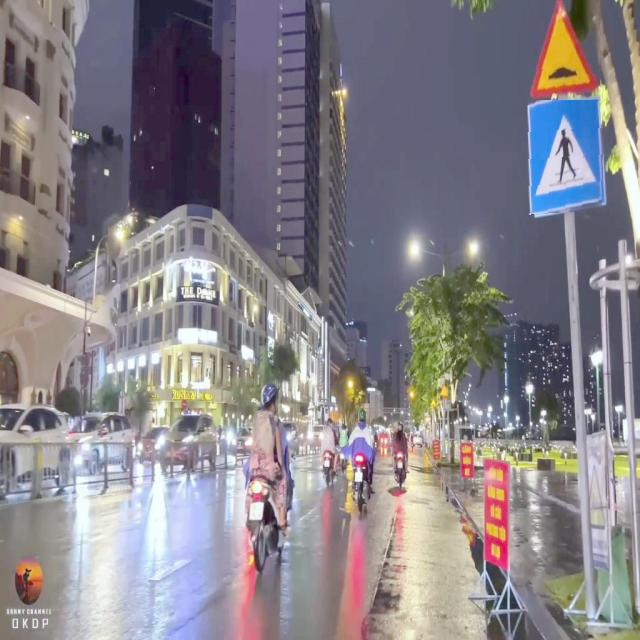duong_co_song_map_mo_nhan_tao: (528, 0, 600, 100)
duong_nguoi_di_bo_sang_ngang: (527, 91, 606, 215)
